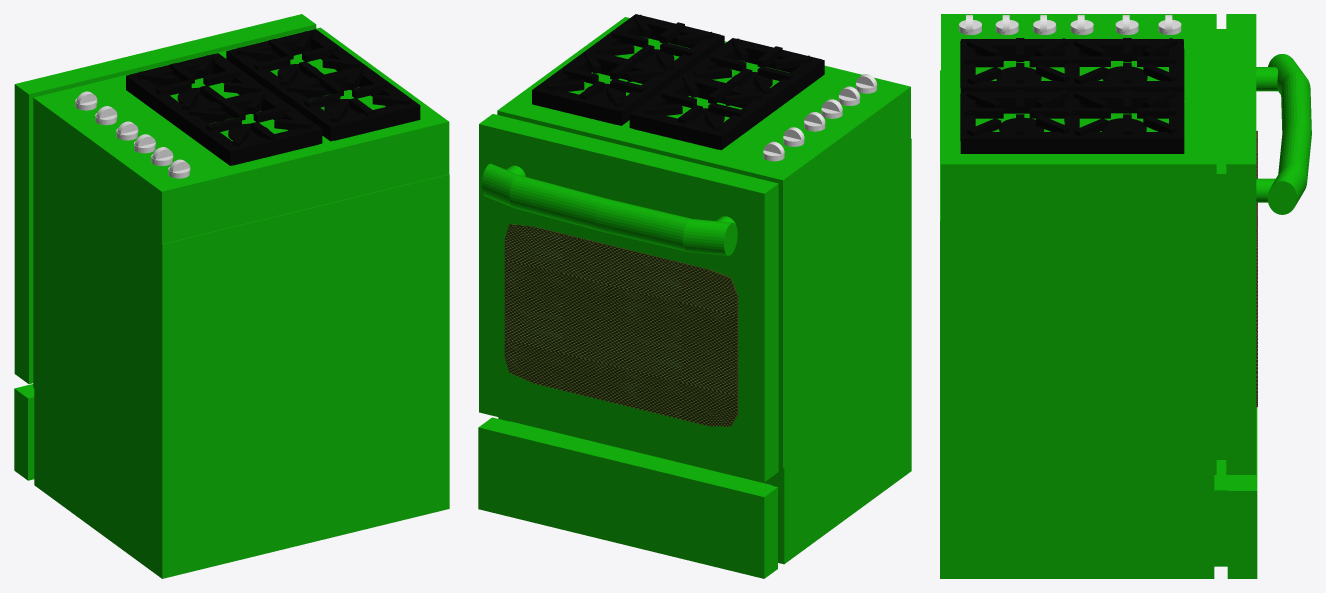
Rendered from stove.fbx.
3 views of the same model, side by side, from view 1: azimuth 30°, elevation 25°; view 2: azimuth 150°, elevation 25°; view 3: azimuth 270°, elevation 25° (orthographic). The views are drawn at different scales.
Visible parts, largest first — view 1: Cube.001, Cube.004, Cube.002, Cube.010, Cube.008, Cube, Cube.003, Cube.005, Cube.009, Cube.006, Cube.011; view 2: Cube.001, Cube.007, Cube.004, Cube.002, Cube.009, Cube.011, Cube, Cube.003, Cube.008, Cube.005, Cube.010, Cube.006; view 3: Cube.001, Cube.003, Cube, Cube.004, Cube.002, Cube.011, Cube.006, Cube.009, Cube.010, Cube.007, Cube.008, Cube.005.
Boxes of the visible parts, left/top/right/bottom form: Cube.001: left=14, top=14, right=449, bottom=578; Cube.004: left=126, top=72, right=241, bottom=165; Cube.002: left=226, top=48, right=342, bottom=141; Cube.010: left=328, top=103, right=420, bottom=140; Cube.008: left=227, top=127, right=318, bottom=165; Cube: left=212, top=53, right=322, bottom=144; Cube.003: left=310, top=29, right=419, bottom=106; Cube.005: left=178, top=90, right=267, bottom=123; Cube.009: left=129, top=54, right=217, bottom=87; Cube.006: left=279, top=67, right=365, bottom=99; Cube.011: left=231, top=29, right=315, bottom=62; Cube.001: left=478, top=17, right=911, bottom=578; Cube.007: left=504, top=224, right=738, bottom=426; Cube.004: left=710, top=57, right=824, bottom=150; Cube.002: left=610, top=33, right=724, bottom=125; Cube.009: left=633, top=110, right=724, bottom=149; Cube.011: left=532, top=86, right=623, bottom=124; Cube: left=629, top=38, right=738, bottom=128; Cube.003: left=533, top=14, right=640, bottom=91; Cube.008: left=738, top=39, right=821, bottom=72; Cube.005: left=690, top=74, right=772, bottom=108; Cube.010: left=636, top=14, right=720, bottom=48; Cube.006: left=592, top=51, right=672, bottom=83; Cube.001: left=940, top=14, right=1311, bottom=578; Cube.003: left=961, top=132, right=1183, bottom=153; Cube: left=961, top=81, right=1183, bottom=91; Cube.004: left=961, top=39, right=1183, bottom=60; Cube.002: left=961, top=91, right=1183, bottom=113; Cube.011: left=1169, top=93, right=1184, bottom=153; Cube.006: left=1064, top=93, right=1079, bottom=153; Cube.009: left=1169, top=40, right=1184, bottom=100; Cube.010: left=960, top=93, right=975, bottom=153; Cube.007: left=1256, top=130, right=1257, bottom=407; Cube.008: left=960, top=40, right=975, bottom=93; Cube.005: left=1064, top=40, right=1079, bottom=84.
Bounding box in the file's own units: 236 × 318 × 247.
Materials: 3 (1 with a texture image).
